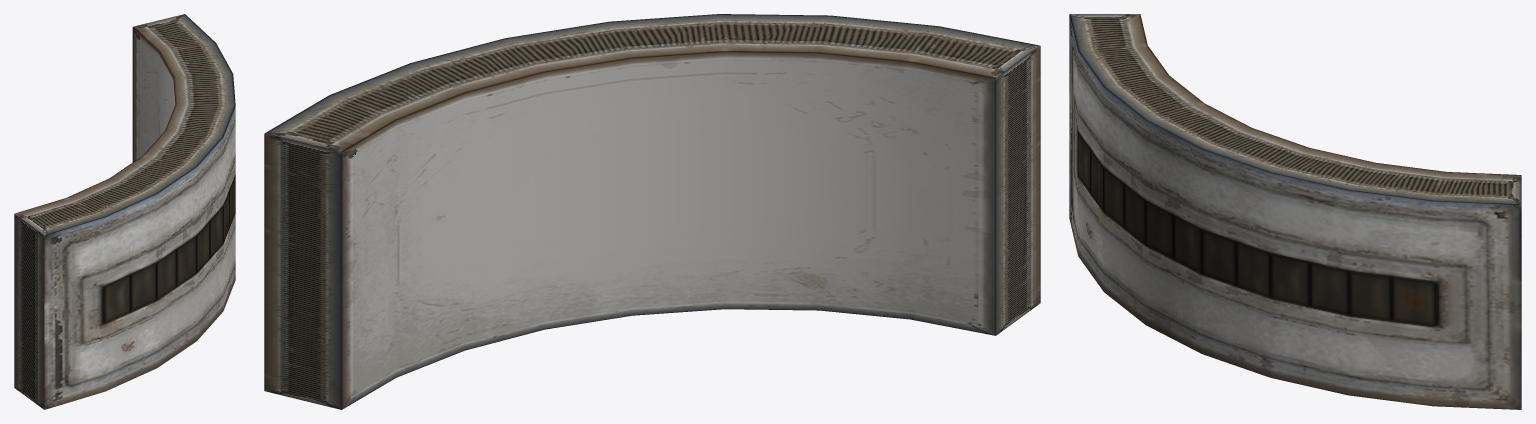
The model's file is scifi_wall_curve1_half_2.FBX.
3 renders of one model, left to right at view 1: azimuth 30°, elevation 25°; view 2: azimuth 150°, elevation 25°; view 3: azimuth 270°, elevation 25°, orthographic. The views are drawn at different scales.
Visible parts, largest first — view 1: half010; view 2: half010; view 3: half010.
Part boxes in pixels (x1,y1,x2,y2): half010: (14, 14, 235, 409); half010: (264, 14, 1040, 409); half010: (1069, 14, 1521, 409).
Size of the model in its own units: 254 by 127 by 254.
